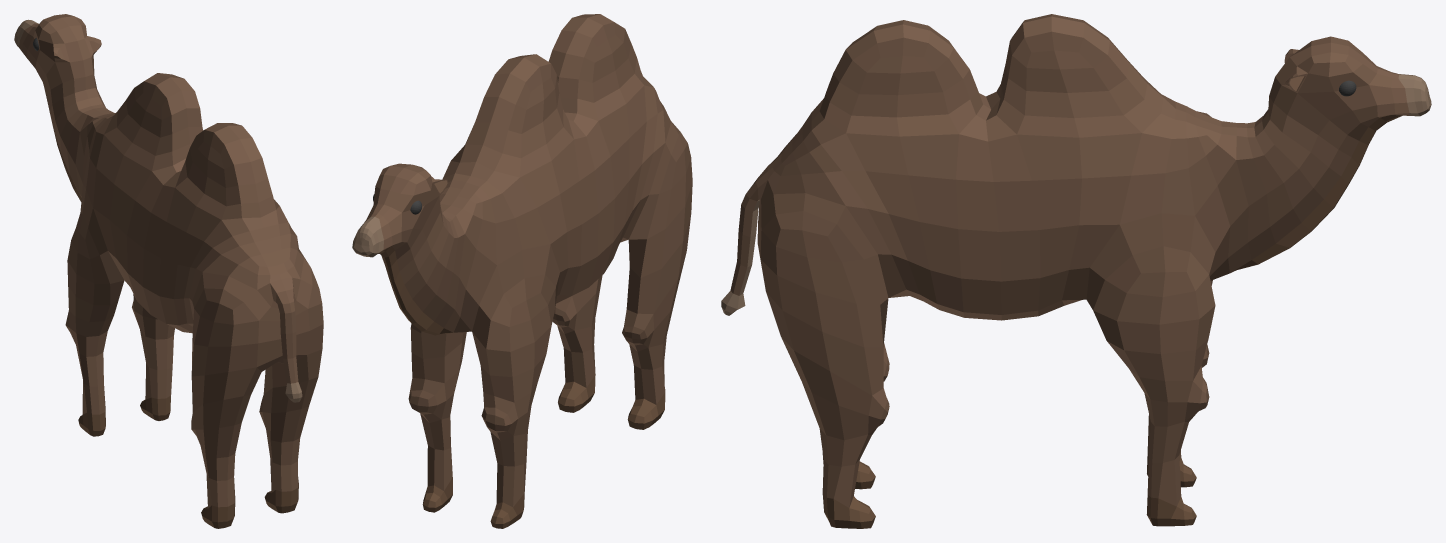
File: low_poly_camel.glb
3 views of the same model, side by side, from view 1: azimuth 30°, elevation 25°; view 2: azimuth 150°, elevation 25°; view 3: azimuth 270°, elevation 25° (orthographic). The views are drawn at different scales.
Visible parts, largest first — view 1: Cube; view 2: Cube; view 3: Cube.
Part boxes in pixels (x1,y1,x2,y2): Cube: (14,14,323,528); Cube: (352,14,692,528); Cube: (721,14,1431,528).
Bounding box in the file's own units: 6.53 × 21.6 × 28.46.
